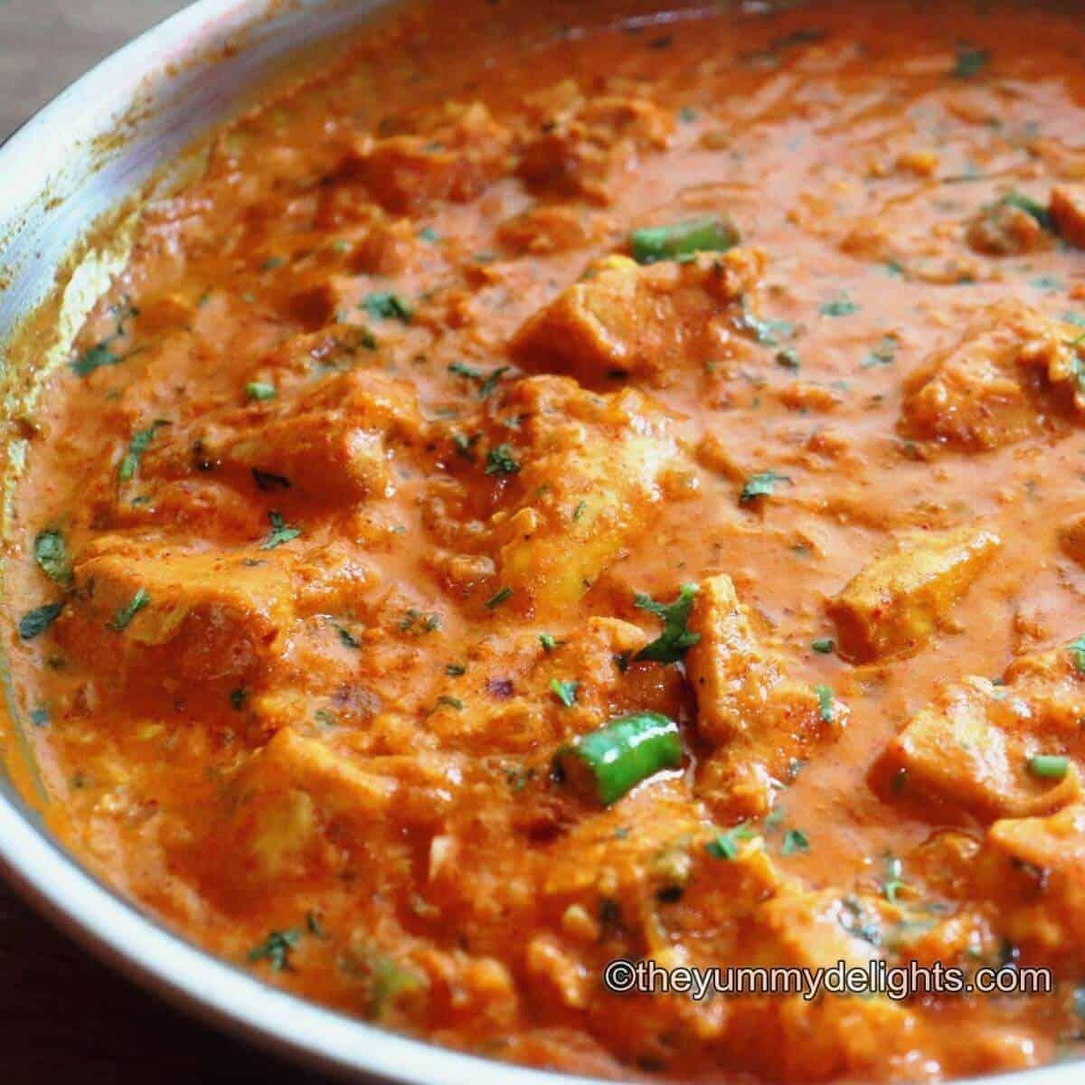chicken: (51, 35, 1082, 1085)
